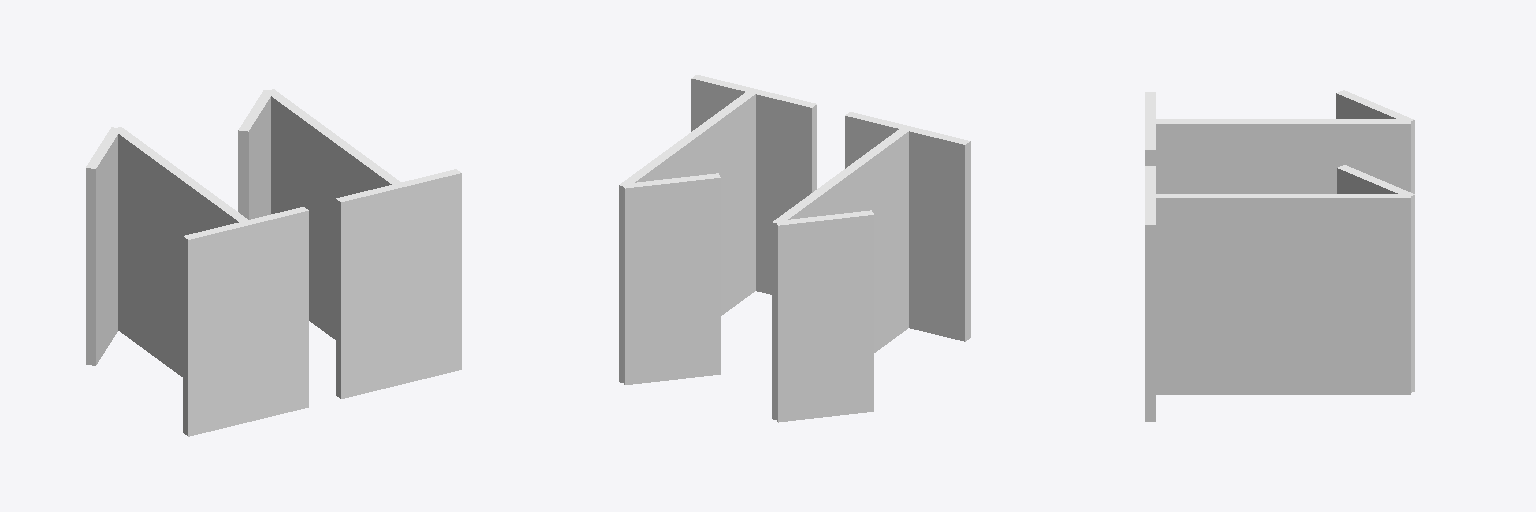
3 views of the same model, side by side, from view 1: azimuth 30°, elevation 25°; view 2: azimuth 150°, elevation 25°; view 3: azimuth 270°, elevation 25° (orthographic).
Parts seen in each view (by area): view 1: wall_6_34, wall_3_16, wall_2_10, wall_5_28, wall_1_3, wall_4_21, wall_1_4, wall_2_11, wall_3_15, wall_5_29, wall_2_12, wall_5_30; view 2: wall_4_22, wall_1_4, wall_3_15, wall_5_28, wall_2_10, wall_6_33, wall_2_9, wall_5_27, wall_3_16, wall_2_11, wall_5_29, wall_5_30 (+1 smaller); view 3: wall_5_27, wall_2_9, wall_6_34, wall_6_33, wall_4_21, wall_1_3, wall_4_22, wall_2_11.
Boxes of the visible parts, x1=… form: wall_6_34: x1=338, y1=173, x2=461, y2=398; wall_3_16: x1=186, y1=211, x2=308, y2=436; wall_2_10: x1=118, y1=134, x2=238, y2=376; wall_5_28: x1=271, y1=96, x2=391, y2=339; wall_1_3: x1=91, y1=135, x2=117, y2=365; wall_4_21: x1=243, y1=97, x2=270, y2=219; wall_1_4: x1=86, y1=168, x2=90, y2=364; wall_2_11: x1=118, y1=127, x2=250, y2=222; wall_3_15: x1=183, y1=236, x2=185, y2=434; wall_5_29: x1=270, y1=89, x2=401, y2=182; wall_2_12: x1=117, y1=128, x2=245, y2=223; wall_5_30: x1=267, y1=90, x2=396, y2=186; wall_4_22: x1=623, y1=178, x2=720, y2=384; wall_1_4: x1=777, y1=215, x2=873, y2=422; wall_3_15: x1=845, y1=116, x2=967, y2=341; wall_5_28: x1=635, y1=94, x2=755, y2=315; wall_2_10: x1=788, y1=132, x2=908, y2=352; wall_6_33: x1=691, y1=79, x2=814, y2=294; wall_2_9: x1=772, y1=222, x2=776, y2=419; wall_5_27: x1=619, y1=185, x2=622, y2=382; wall_3_16: x1=968, y1=141, x2=970, y2=339; wall_2_11: x1=773, y1=127, x2=905, y2=222; wall_5_29: x1=620, y1=90, x2=752, y2=185; wall_5_30: x1=624, y1=91, x2=755, y2=186; wall_5_27: x1=1156, y1=198, x2=1410, y2=394; wall_2_9: x1=1156, y1=124, x2=1410, y2=193; wall_6_34: x1=1145, y1=225, x2=1150, y2=421; wall_6_33: x1=1151, y1=225, x2=1155, y2=421; wall_4_21: x1=1337, y1=168, x2=1397, y2=193; wall_1_3: x1=1336, y1=93, x2=1395, y2=118; wall_4_22: x1=1411, y1=195, x2=1414, y2=392; wall_2_11: x1=1150, y1=121, x2=1410, y2=123.
Bounding box in the file's own units: 224 × 152 × 190.